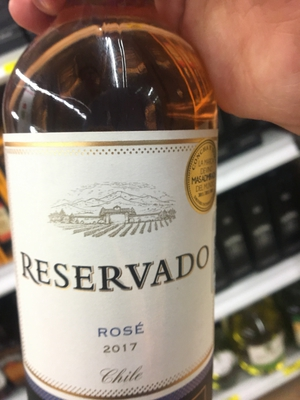reservado rose: (13, 15, 219, 400)
